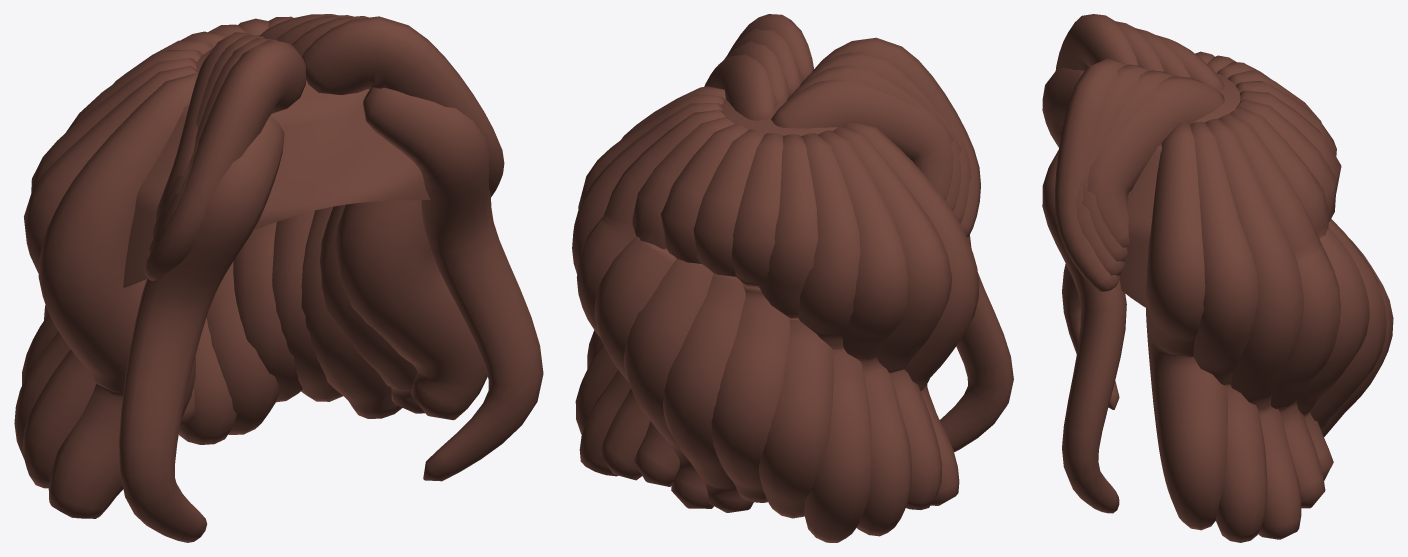
File: studio_long_waves_short.glb
3 views of the same model, side by side, from view 1: azimuth 30°, elevation 25°; view 2: azimuth 150°, elevation 25°; view 3: azimuth 270°, elevation 25° (orthographic). The views are drawn at different scales.
Visible parts, largest first — view 1: long_waves; view 2: long_waves; view 3: long_waves.
Part boxes in pixels (bbox=[...]): long_waves: bbox=[14, 14, 543, 542]; long_waves: bbox=[572, 14, 1013, 542]; long_waves: bbox=[1042, 14, 1393, 542].
Size of the model in its own units: 0.6337 by 0.6695 by 0.4916.
